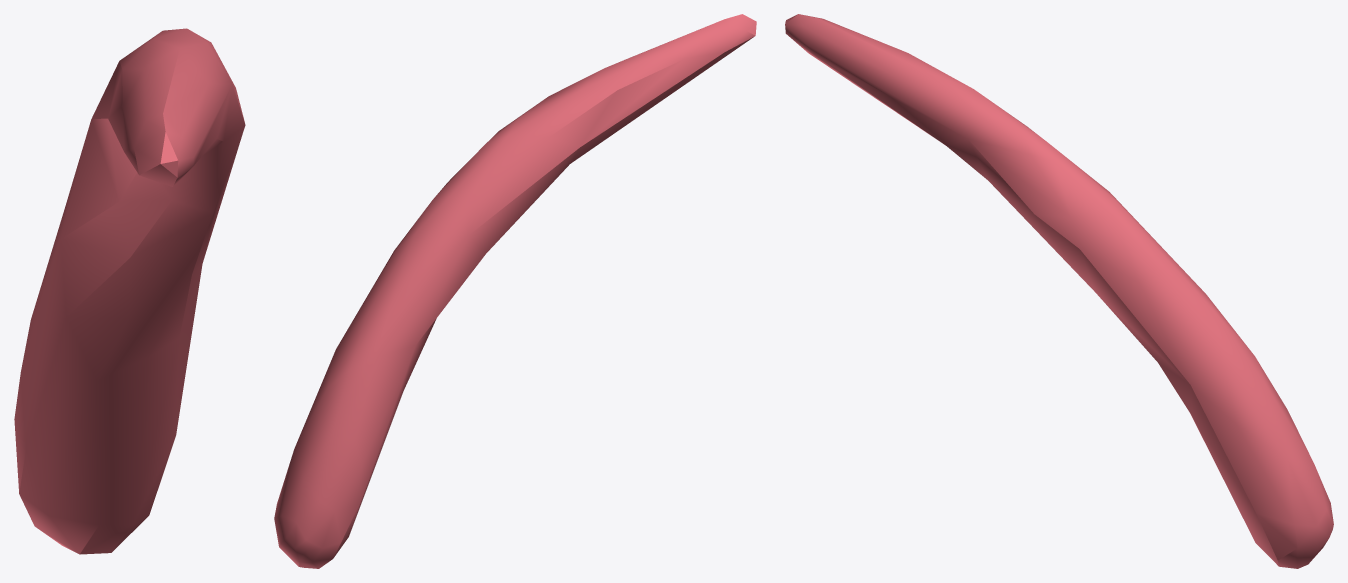
The model's file is fma68921_fj3042.glb.
3 renders of one model, left to right at view 1: azimuth 30°, elevation 25°; view 2: azimuth 150°, elevation 25°; view 3: azimuth 270°, elevation 25°, orthographic. The views are drawn at different scales.
Parts seen in each view (by area): view 1: FMA68921_FJ3042; view 2: FMA68921_FJ3042; view 3: FMA68921_FJ3042.
Boxes of the visible parts, x1,y1,x2,y2 form: FMA68921_FJ3042: (14,28,245,554); FMA68921_FJ3042: (274,14,756,568); FMA68921_FJ3042: (785,14,1333,568).
Bounding box in the file's own units: 0.0116 × 0.0195 × 0.0215.
